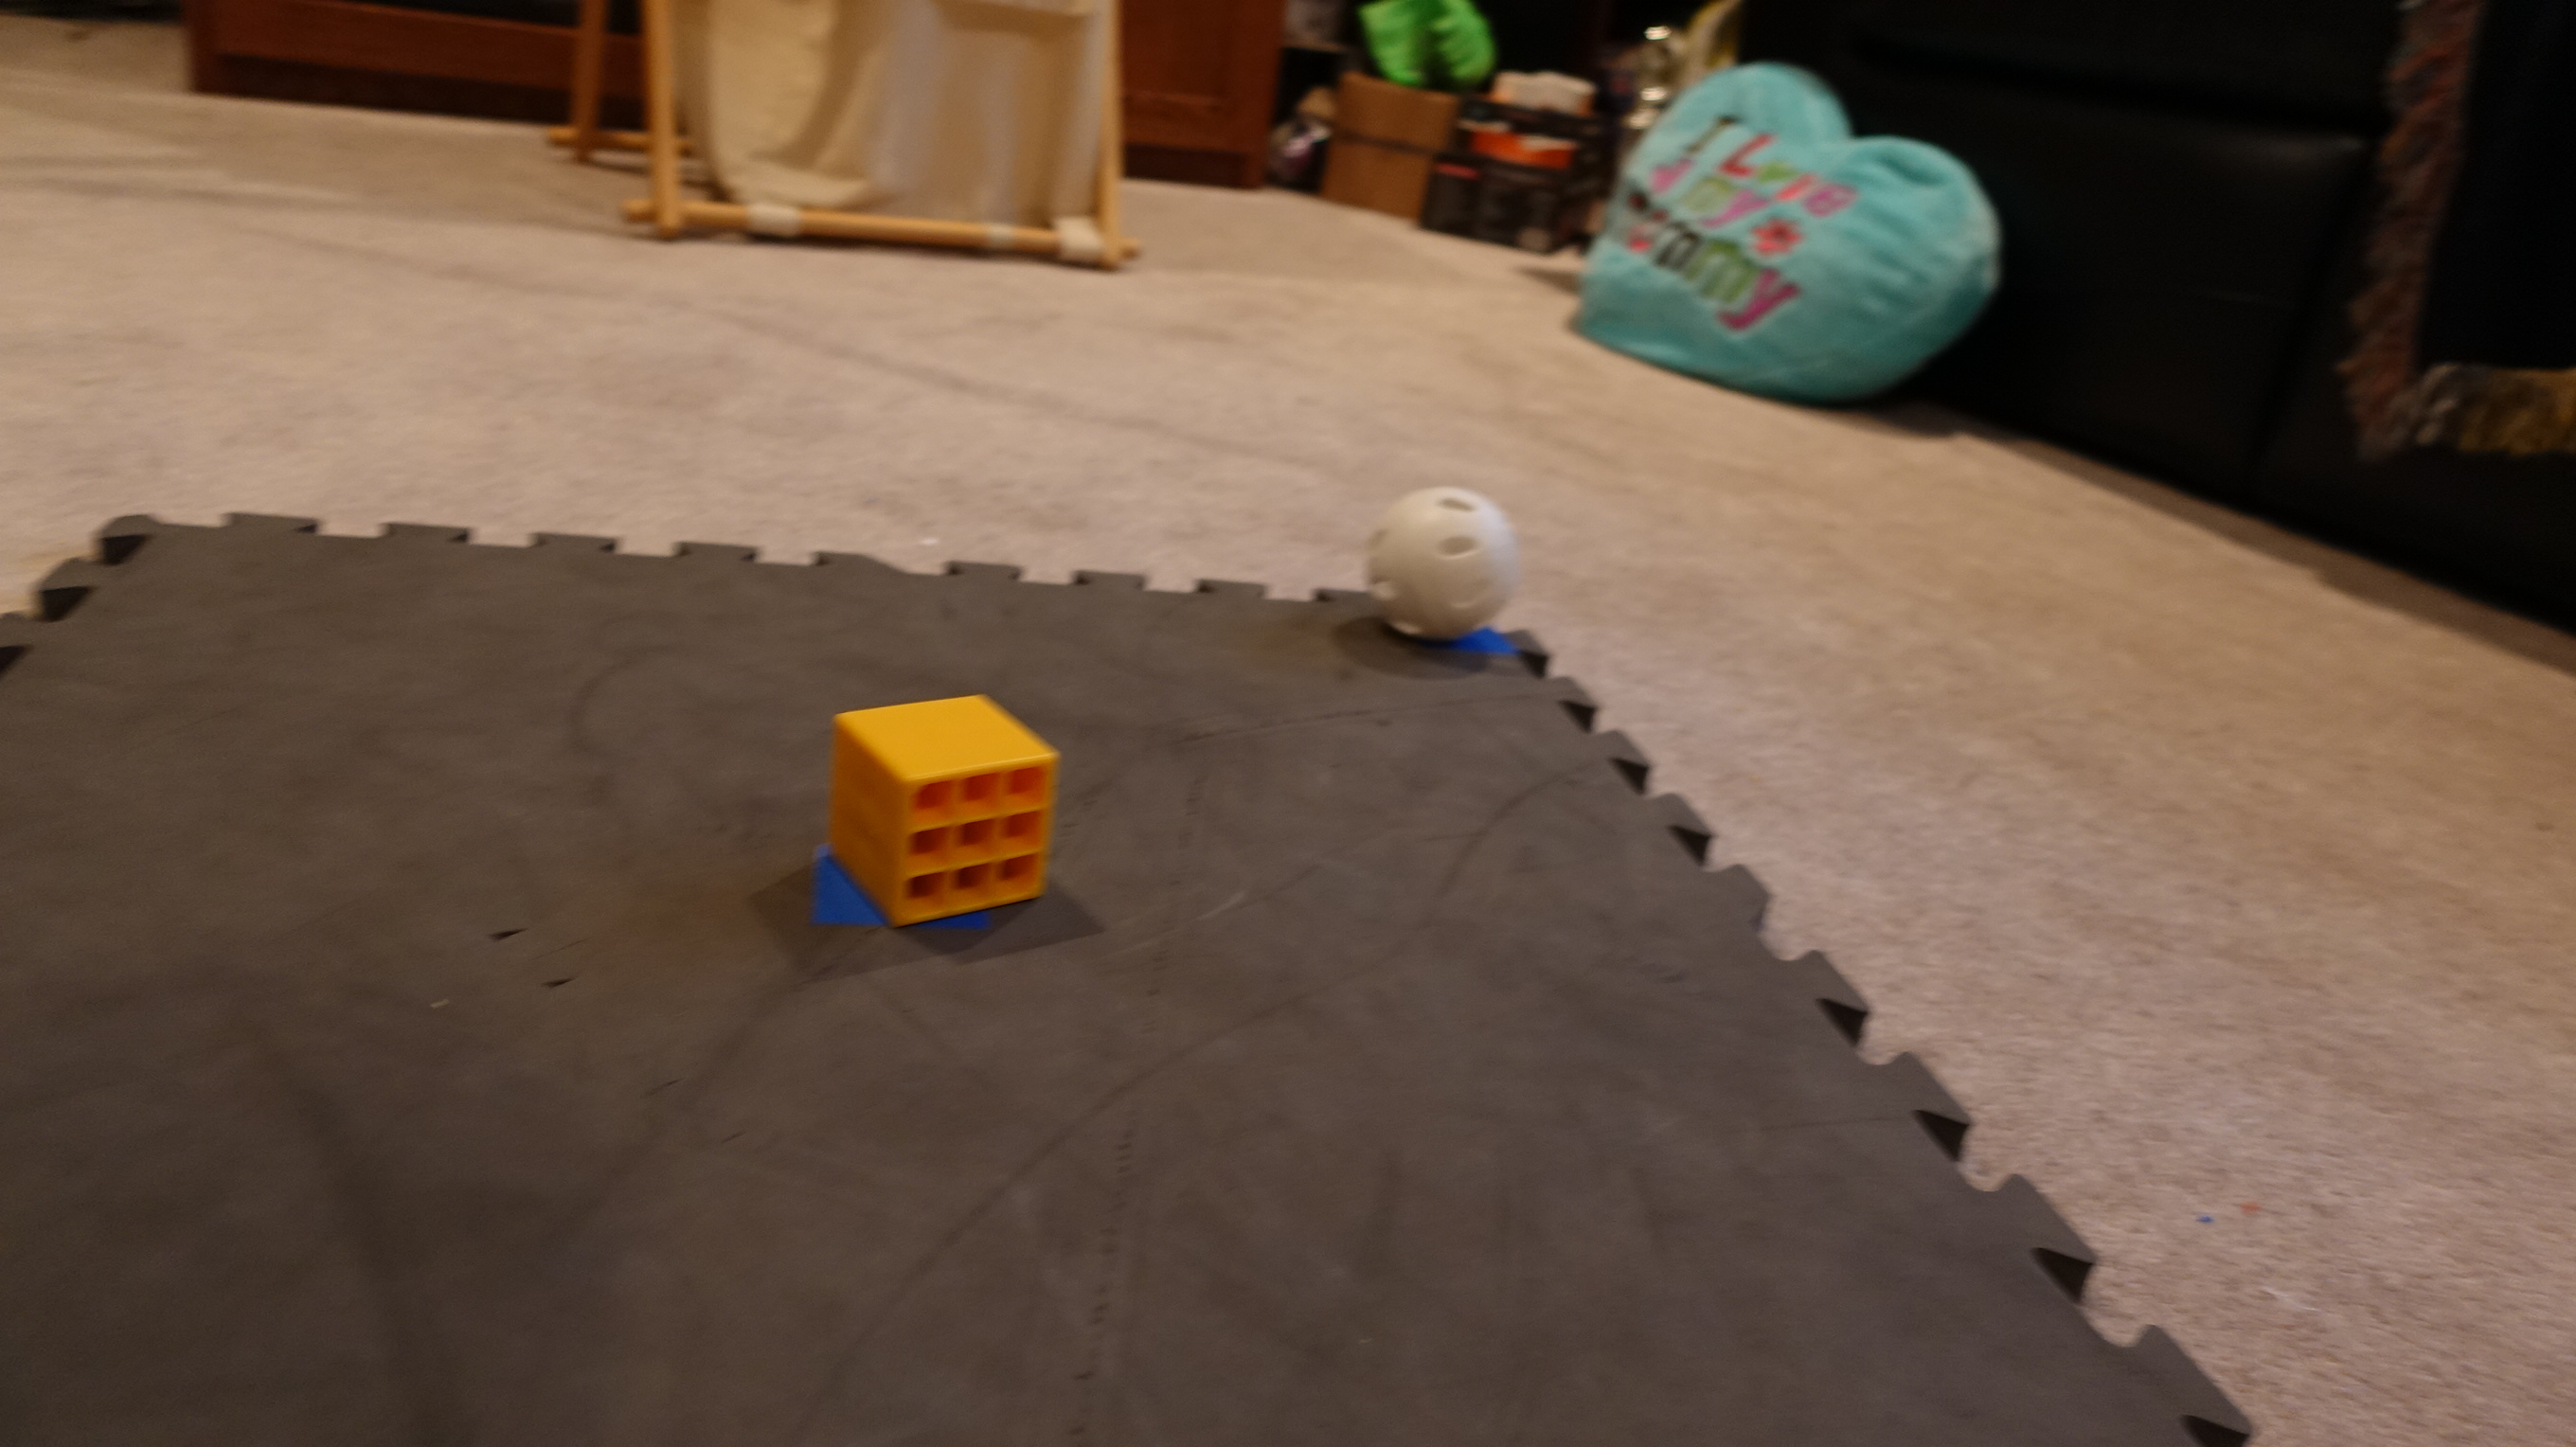gold: (814, 688, 1067, 936)
silver: (1355, 469, 1522, 656)
